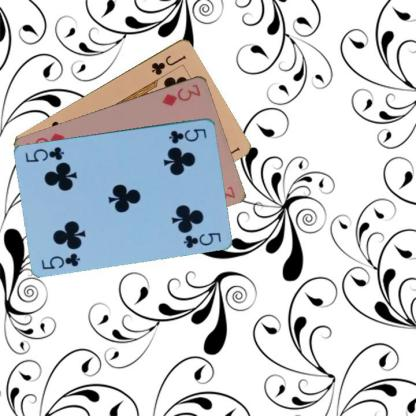3d: (160, 81, 202, 107)
5c: (39, 250, 82, 271), (166, 126, 208, 144)
Jc: (148, 52, 188, 76)
